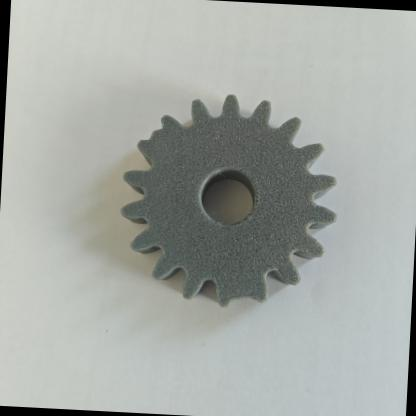defect: (200, 252, 283, 326), (127, 105, 190, 176)
gear: (107, 88, 344, 338)
